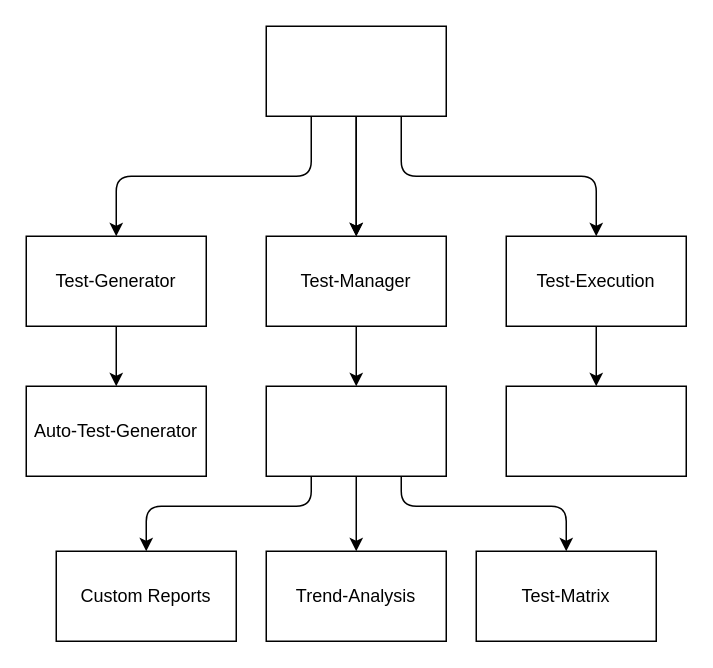
This 713x668 diagram has some shape labels left out. Here are the shapes that lost their labels. From the top down, the centre of each, then its label:
point 355,70: Test-Controller Instances Database
point 355,430: Test-Reports
point 595,430: Auto-Test-Execution
